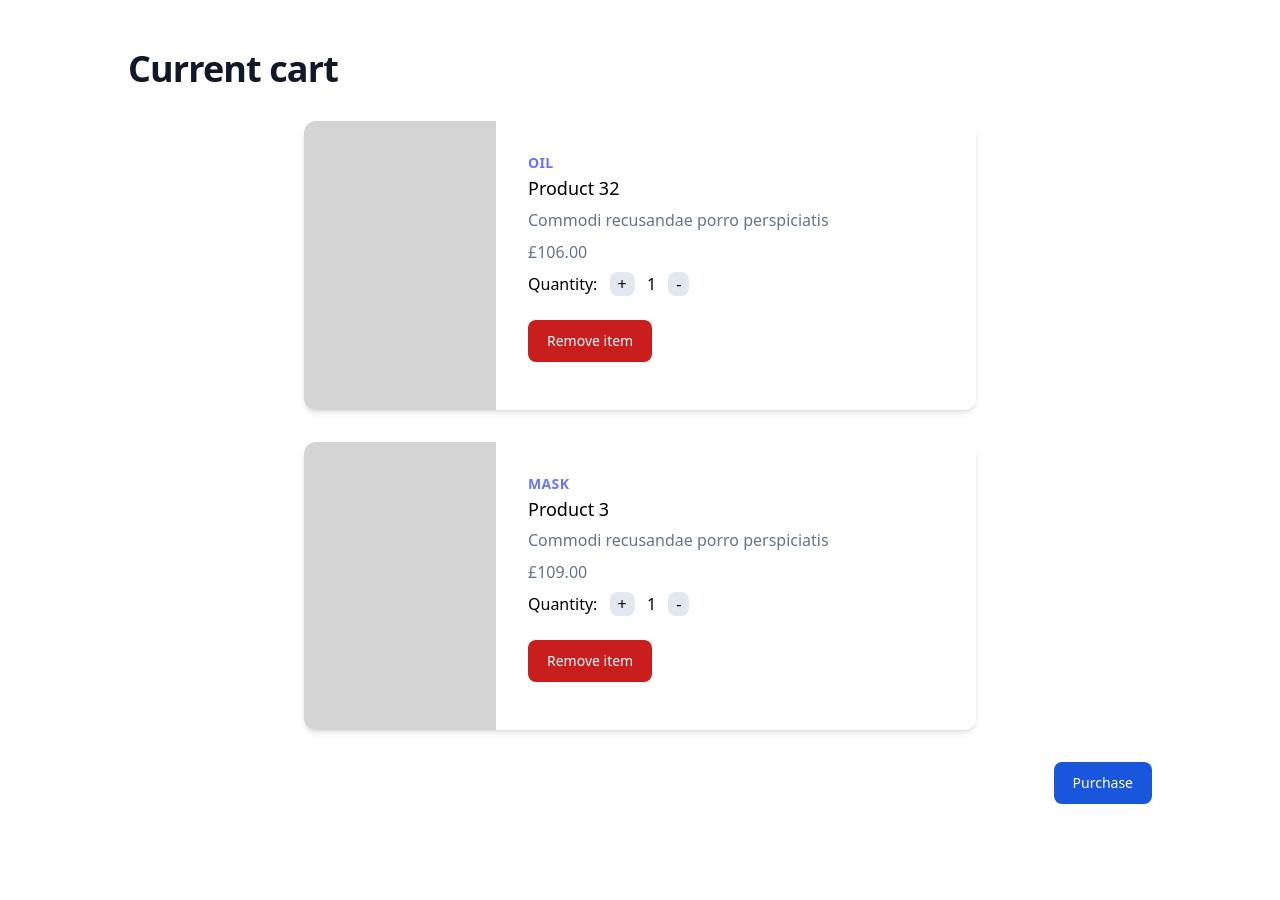
Scenario: Cart page › should allow the user to purchase the order
This screenshot has width=1280, height=900.
(page scrolled)
Click the button "Purchase" at [1104, 783], box x1=1054 y1=762 x2=1153 y2=804
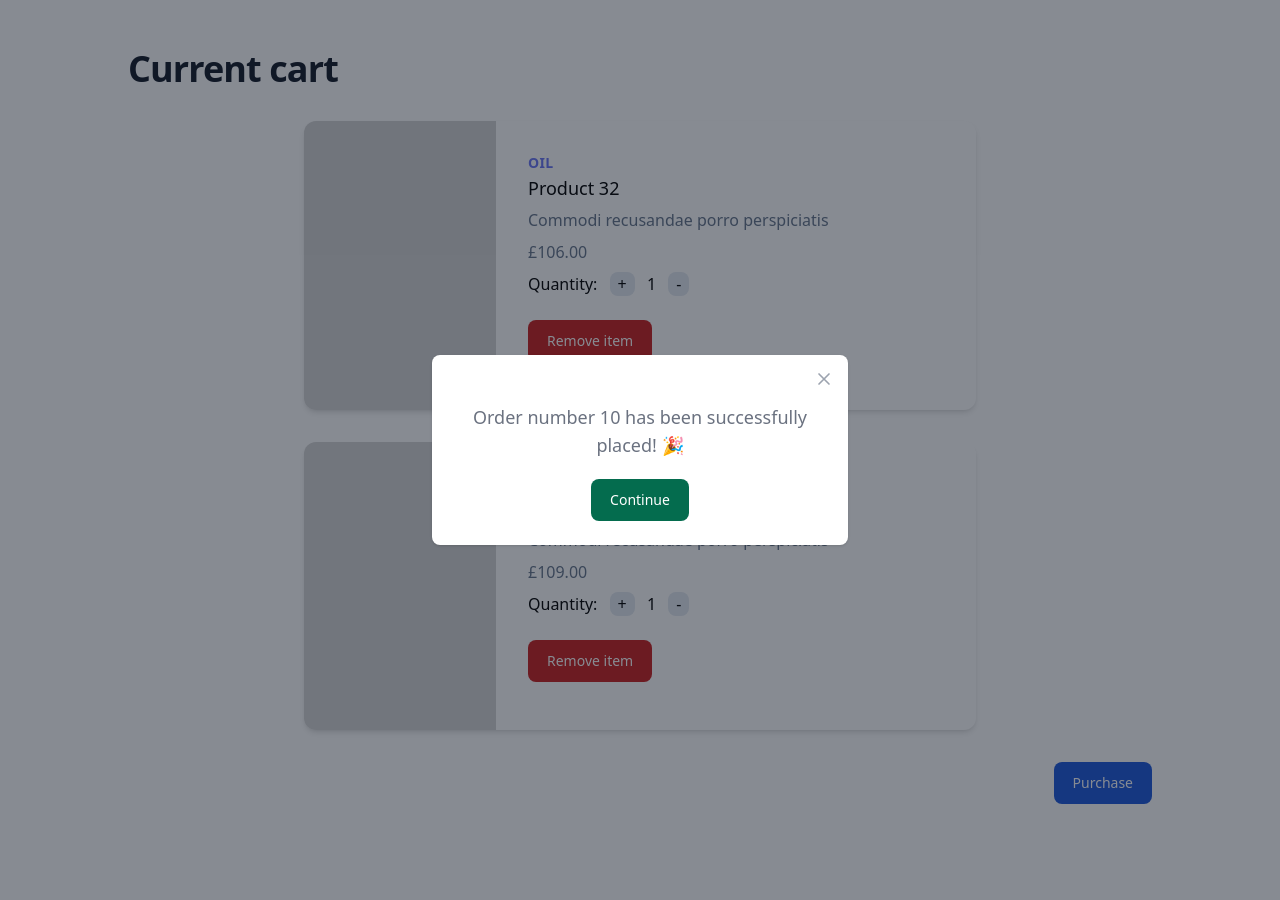
Expected: the heading "Order number 10 has been successfully placed! 🎉" is shown, x1=456 y1=403 x2=824 y2=459
